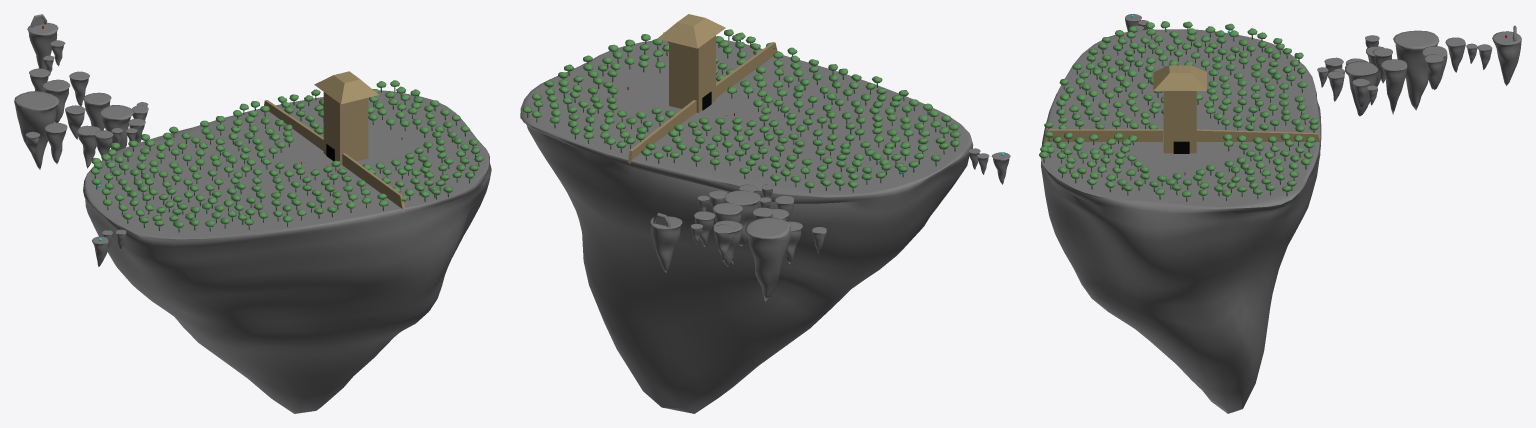
File: Level Mago Blocagem.fbx
3 views of the same model, side by side, from view 1: azimuth 30°, elevation 25°; view 2: azimuth 150°, elevation 25°; view 3: azimuth 270°, elevation 25° (orthographic). The views are drawn at different scales.
Parts seen in each view (by area): view 1: Main Island, Forte, Island.006, Island.007, Primeira ilha, Island.003, Island.012, Island.004, Island.014, Island.001, Island.005; view 2: Main Island, Forte, Island.006, Primeira ilha, Island.007, Island.003, Island.002; view 3: Main Island, Forte, Island.006, Primeira ilha, Island.003, Island.007, Island.002, Island.001.
Part boxes in pixels (x1=…): Main Island: x1=83, y1=90, x2=491, y2=413; Forte: x1=264, y1=71, x2=405, y2=212; Island.006: x1=14, y1=91, x2=59, y2=169; Island.007: x1=100, y1=105, x2=133, y2=151; Primeira ilha: x1=27, y1=22, x2=58, y2=69; Island.003: x1=83, y1=92, x2=111, y2=148; Island.012: x1=44, y1=122, x2=67, y2=163; Island.004: x1=42, y1=79, x2=70, y2=122; Island.014: x1=77, y1=125, x2=100, y2=168; Island.001: x1=69, y1=71, x2=89, y2=106; Island.005: x1=65, y1=105, x2=85, y2=139; Main Island: x1=520, y1=40, x2=973, y2=413; Forte: x1=628, y1=14, x2=777, y2=163; Island.006: x1=745, y1=217, x2=790, y2=301; Primeira ilha: x1=650, y1=216, x2=682, y2=272; Island.007: x1=725, y1=190, x2=760, y2=245; Island.003: x1=713, y1=202, x2=742, y2=264; Island.002: x1=713, y1=224, x2=735, y2=261; Main Island: x1=1041, y1=29, x2=1321, y2=413; Forte: x1=1042, y1=65, x2=1320, y2=153; Island.006: x1=1393, y1=30, x2=1439, y2=110; Primeira ilha: x1=1492, y1=31, x2=1521, y2=85; Island.003: x1=1380, y1=59, x2=1407, y2=114; Island.007: x1=1345, y1=61, x2=1377, y2=116; Island.002: x1=1445, y1=37, x2=1465, y2=72; Island.001: x1=1424, y1=54, x2=1443, y2=89.
Size of the model in its own units: 306 by 253 by 318.
